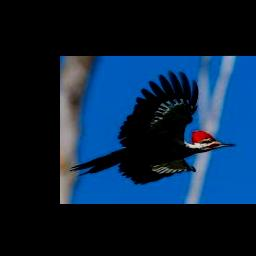Woodpecker: (69, 70, 235, 184)
